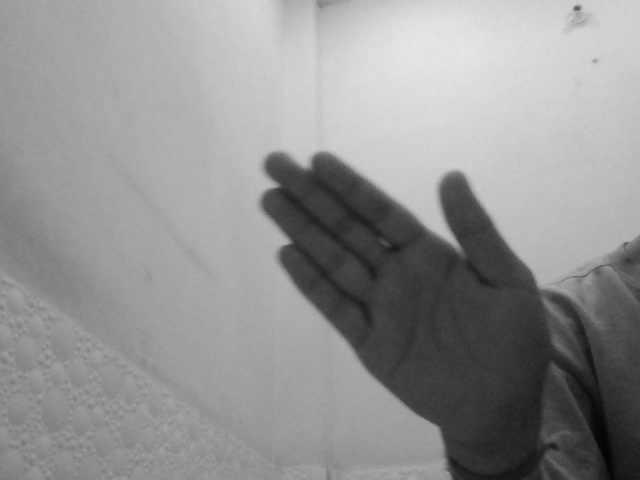Hello: (250, 144, 554, 439)
